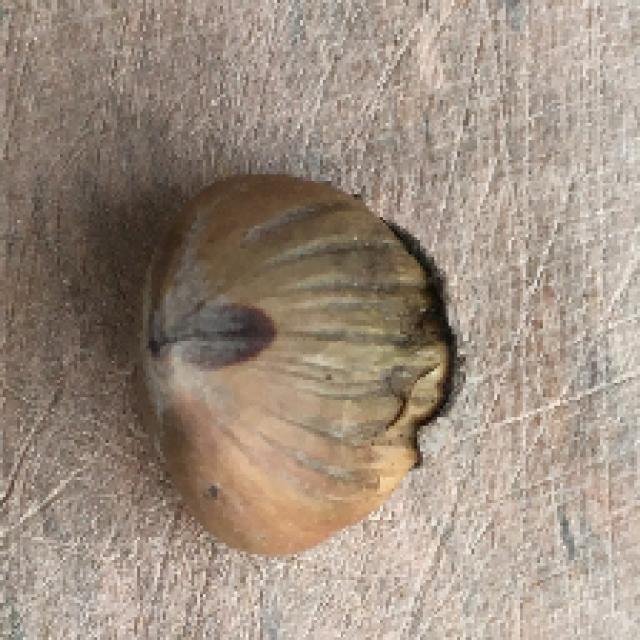damagedHazelnut: (129, 164, 467, 561)
